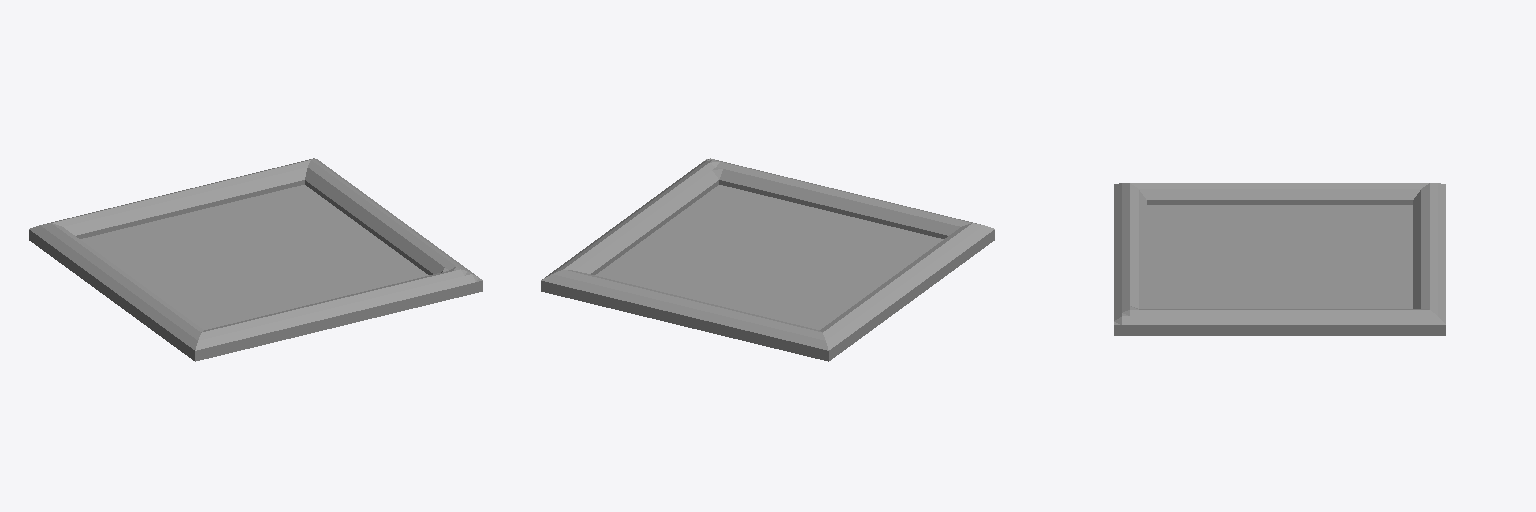
Rendered from Chessboard.obj.
3 renders of one model, left to right at view 1: azimuth 30°, elevation 25°; view 2: azimuth 150°, elevation 25°; view 3: azimuth 270°, elevation 25°, orthographic.
Parts seen in each view (by area): view 1: Board_Cube; view 2: Board_Cube; view 3: Board_Cube.
Part boxes in pixels (bbox=[...]): Board_Cube: bbox=[29, 158, 482, 361]; Board_Cube: bbox=[541, 158, 994, 361]; Board_Cube: bbox=[1114, 183, 1445, 335].
Size of the model in its own units: 50 by 3.23 by 50.